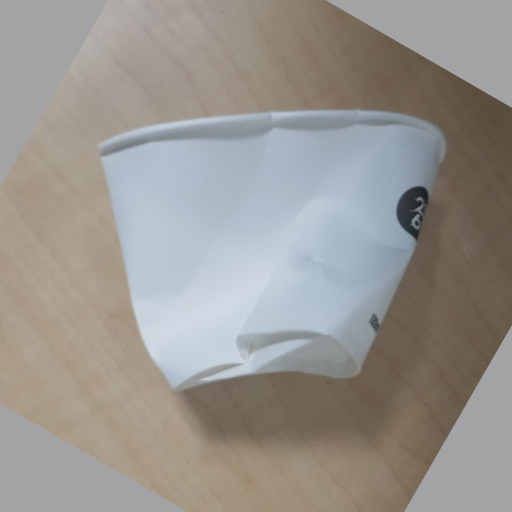Paper_1: (95, 110, 449, 392)
